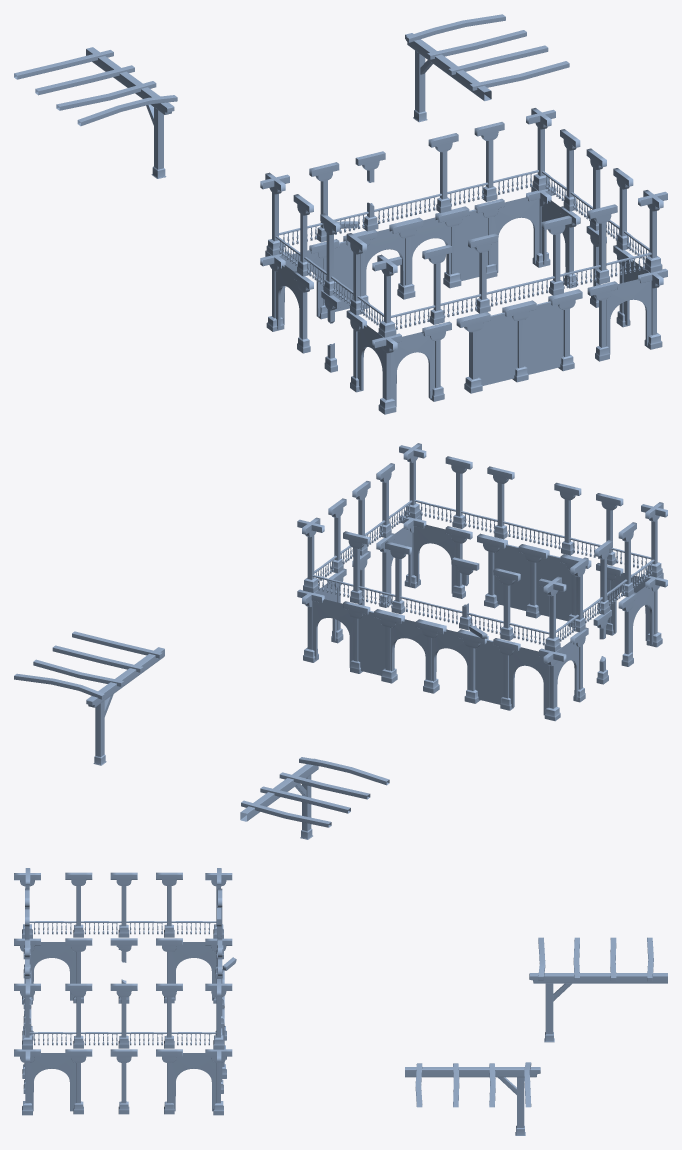
Rendered from Rails.fbx.
The picture shows the model from 3 angles, top to bottom: view 1: azimuth 30°, elevation 25°; view 2: azimuth 150°, elevation 25°; view 3: azimuth 270°, elevation 25°; orthographic projection. The views are drawn at different scales.
Parts seen in each view (by area): view 1: Fireplace:Fireplace:Fireplace:Fireplace:Fireplace:Fireplace: (×3), pCube223, polySurface785, walls31, Beam22, Beam28, Fireplace:Fireplace:Fireplace:Fireplace:pCube223, Fireplace:Fireplace:Fireplace:Fireplace:Doorway12, Fireplace:Fireplace:Fireplace:Fireplace:polySurface112, Beam27, pCube229, pCube226 (+18 smaller); view 2: Fireplace:Fireplace:Fireplace:Fireplace:Fireplace:Fireplace: (×3), pCube223, polySurface785, walls31, Beam22, Beam28, Fireplace:Fireplace:Fireplace:Fireplace:pCube223, Fireplace:Fireplace:Fireplace:Fireplace:Doorway13, Fireplace:Fireplace:Fireplace:Fireplace:Doorway12, pCube226, Fireplace:Fireplace:Fireplace:Fireplace:Doorway19, Beam27 (+17 smaller); view 3: Fireplace:Fireplace:Fireplace:Fireplace:Fireplace:Fireplace:, pCube223, polySurface785, Fireplace:Fireplace:Fireplace:Fireplace:pCube223, Beam23, Beam27, Fireplace:Fireplace:Fireplace:Fireplace:Doorway10, Beam28, Beam22, Fireplace:Fireplace:Fireplace:Fireplace:Doorway11, Fireplace:Fireplace:Fireplace:Fireplace:Doorway15, Fireplace:Fireplace:Fireplace:Fireplace:Doorway16 (+7 smaller).
Boxes of the visible parts, x1,y1,x2,y2 form: Fireplace:Fireplace:Fireplace:Fireplace:Fireplace:Fireplace: (×3): (293,198,667,406); pCube223: (293,122,617,324); polySurface785: (275,170,651,329); walls31: (478,301,563,385); Beam22: (14,50,177,126); Beam28: (406,14,569,90); Fireplace:Fireplace:Fireplace:Fireplace:pCube223: (560,129,633,250); Fireplace:Fireplace:Fireplace:Fireplace:Doorway12: (493,197,539,272); Fireplace:Fireplace:Fireplace:Fireplace:polySurface112: (456,312,490,393); Beam27: (405,33,491,101); pCube229: (638,190,667,272); pCube226: (526,108,555,190); Fireplace:Fireplace:Fireplace:Fireplace:Fireplace:Fireplace: (×3): (328,515,649,710); pCube223: (343,456,636,640); polySurface785: (312,500,654,645); walls31: (494,544,571,621); Beam22: (241,757,389,827); Beam28: (14,631,162,699); Fireplace:Fireplace:Fireplace:Fireplace:pCube223: (328,463,394,573); Fireplace:Fireplace:Fireplace:Fireplace:Doorway13: (509,647,549,715); Fireplace:Fireplace:Fireplace:Fireplace:Doorway12: (312,599,353,667); pCube226: (297,517,324,592); Fireplace:Fireplace:Fireplace:Fireplace:Doorway19: (390,619,427,679); Beam27: (86,647,164,707); Fireplace:Fireplace:Fireplace:Fireplace:Fireplace:Fireplace:: (14,938,223,1115); pCube223: (23,872,223,1028); polySurface785: (29,921,216,1045); Fireplace:Fireplace:Fireplace:Fireplace:pCube223: (65,983,182,1048); Beam23: (529,973,667,983); Beam27: (405,1067,540,1077); Fireplace:Fireplace:Fireplace:Fireplace:Doorway10: (29,1053,76,1111); Beam28: (415,1062,531,1107); Beam22: (538,937,653,981); Fireplace:Fireplace:Fireplace:Fireplace:Doorway11: (171,1053,216,1111); Fireplace:Fireplace:Fireplace:Fireplace:Doorway15: (29,942,76,1000); Fireplace:Fireplace:Fireplace:Fireplace:Doorway16: (171,942,216,1000).
Bounding box in the file's own units: 2305 × 819 × 3607.
